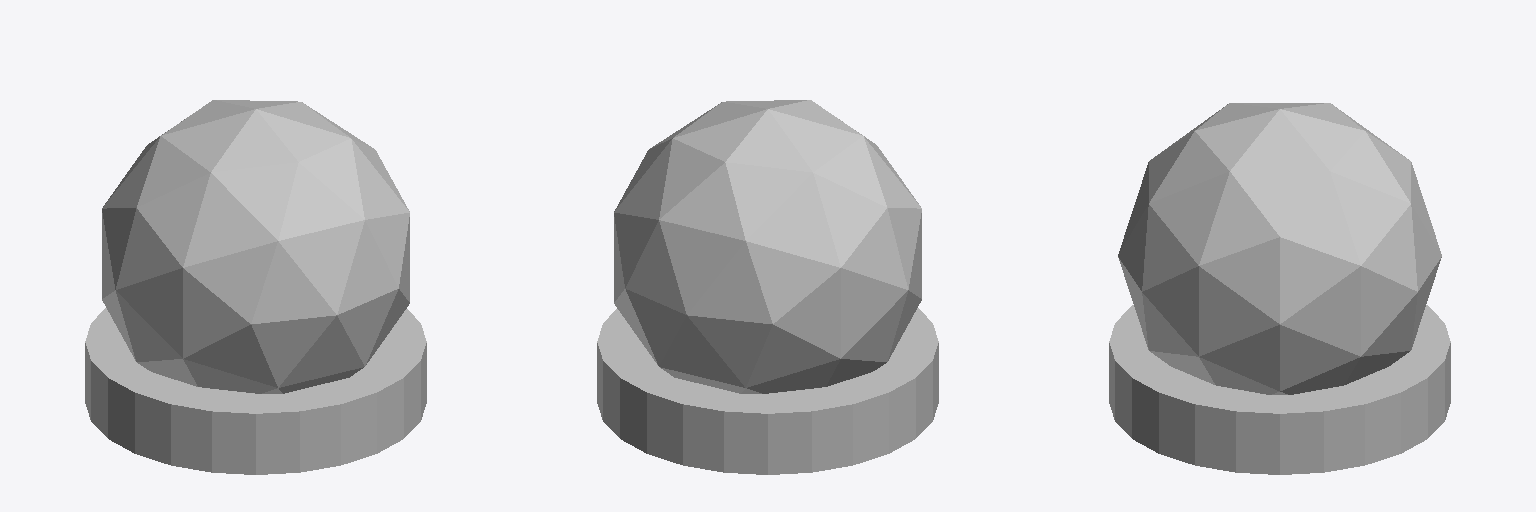
Rendered from gems_ruby_4.obj.
3 renders of one model, left to right at view 1: azimuth 30°, elevation 25°; view 2: azimuth 150°, elevation 25°; view 3: azimuth 270°, elevation 25°, orthographic.
Visible parts, largest first — view 1: mergedBlocks; view 2: mergedBlocks; view 3: mergedBlocks.
Boxes of the visible parts, <box> form: mergedBlocks: <box>85,100,426,474</box>; mergedBlocks: <box>597,100,938,474</box>; mergedBlocks: <box>1109,103,1450,474</box>.
Bounding box in the file's own units: 1 × 0.95 × 1.